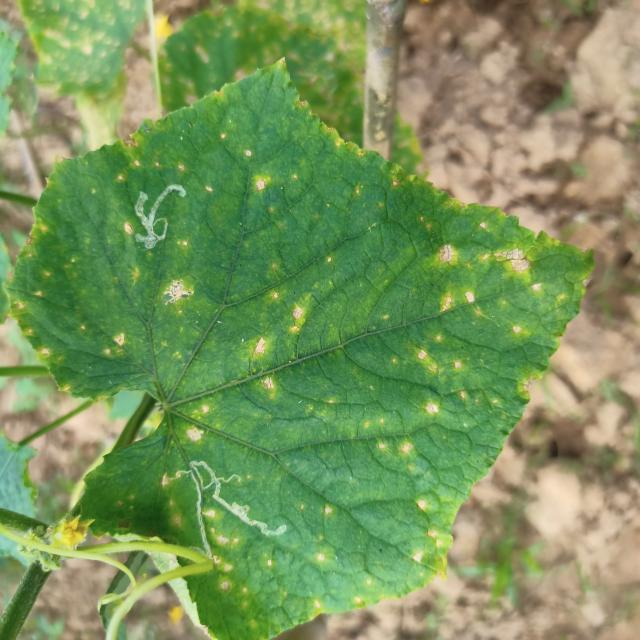disease_cucumber: (358, 193, 566, 534), (143, 396, 424, 616), (20, 244, 322, 401), (106, 136, 276, 219)
